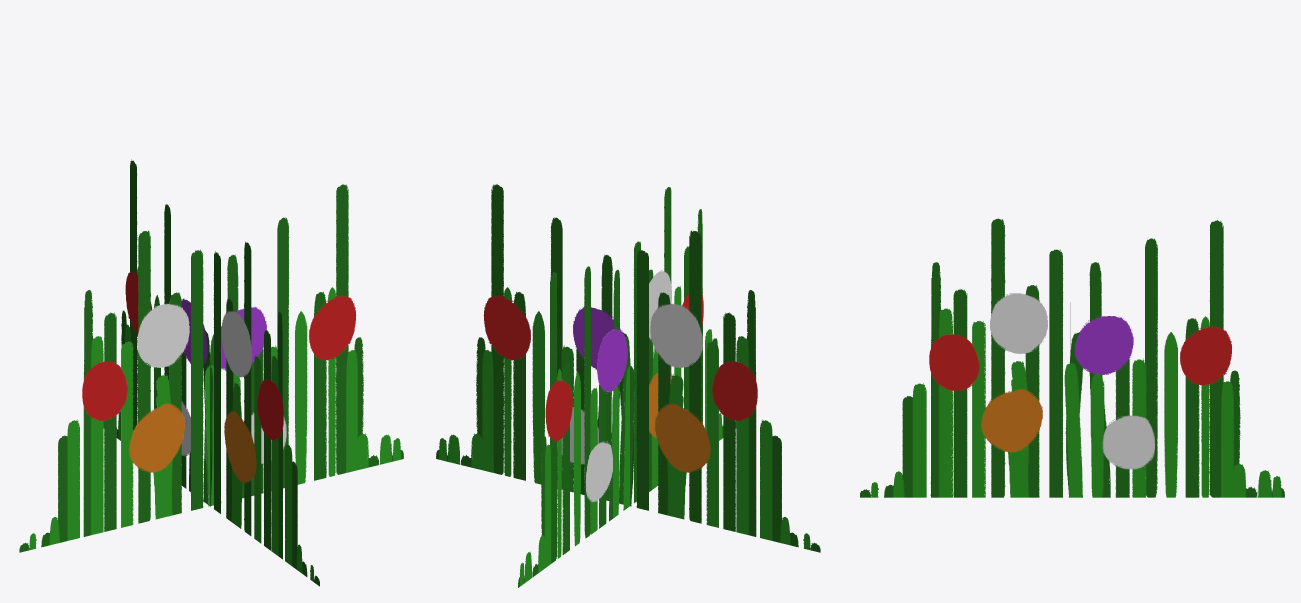
The model's file is flower1.FBX.
3 renders of one model, left to right at view 1: azimuth 30°, elevation 25°; view 2: azimuth 150°, elevation 25°; view 3: azimuth 270°, elevation 25°, orthographic. The views are drawn at different scales.
Visible parts, largest first — view 1: Plane027, Plane014; view 2: Plane027, Plane014; view 3: Plane014.
Part boxes in pixels (x1,y1,x2,y2): Plane027: (19, 184, 403, 552); Plane014: (103, 159, 319, 586); Plane027: (436, 184, 820, 552); Plane014: (518, 187, 736, 587); Plane014: (860, 218, 1284, 497).
Size of the model in its own units: 79.82 by 79.82 by 79.82.
1 material, 1 textured.
